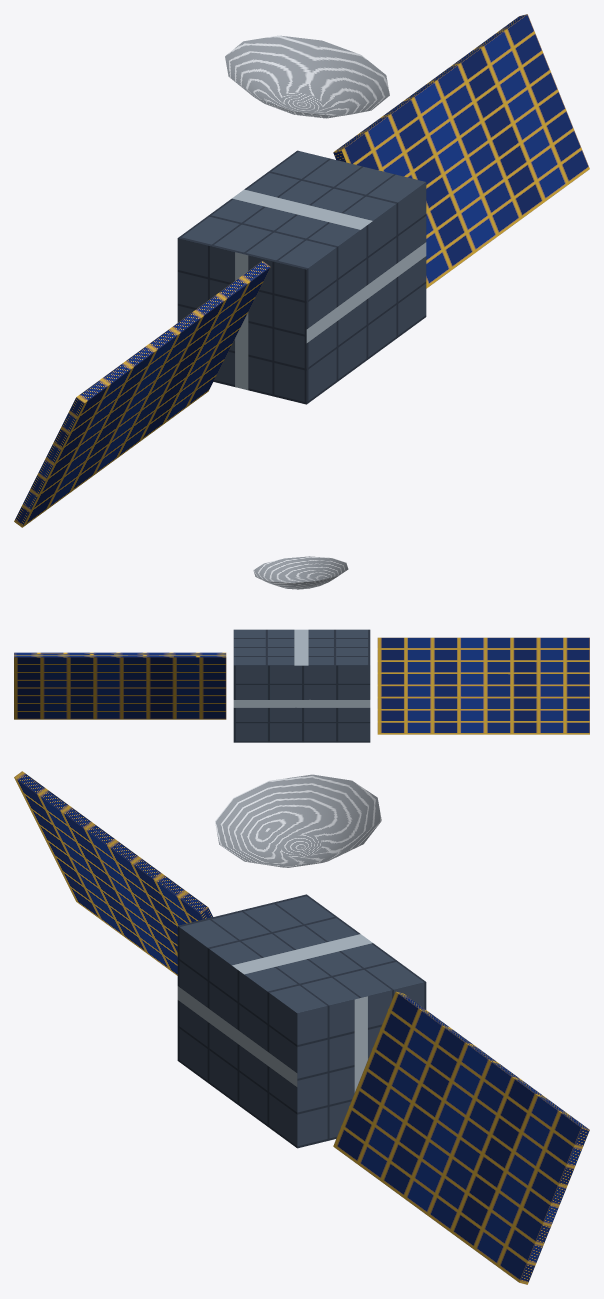
The model's file is satellite.gltf.
3 views of the same model, one above another, from view 1: azimuth 30°, elevation 25°; view 2: azimuth 150°, elevation 25°; view 3: azimuth 270°, elevation 25° (orthographic). The views are drawn at different scales.
Visible parts, largest first — view 1: body, panel_R, panel_L, dish; view 2: panel_L, body, panel_R, dish; view 3: body, panel_R, panel_L, dish.
Boxes of the visible parts, <box> form: body: <box>177,150,426,404</box>; panel_R: <box>333,14,589,288</box>; panel_L: <box>14,261,270,527</box>; dish: <box>225,35,389,118</box>; panel_L: <box>377,637,589,734</box>; body: <box>233,629,370,742</box>; panel_R: <box>14,652,226,719</box>; dish: <box>253,556,348,589</box>; body: <box>177,894,426,1148</box>; panel_R: <box>333,991,589,1284</box>; panel_L: <box>14,771,212,975</box>; dish: <box>215,774,381,867</box>.
Size of the model in its own units: 1.72 by 0.5961 by 1.08.
3 materials, 3 textured.
